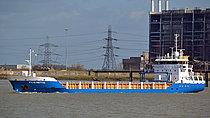Ship: (7, 36, 209, 98)
